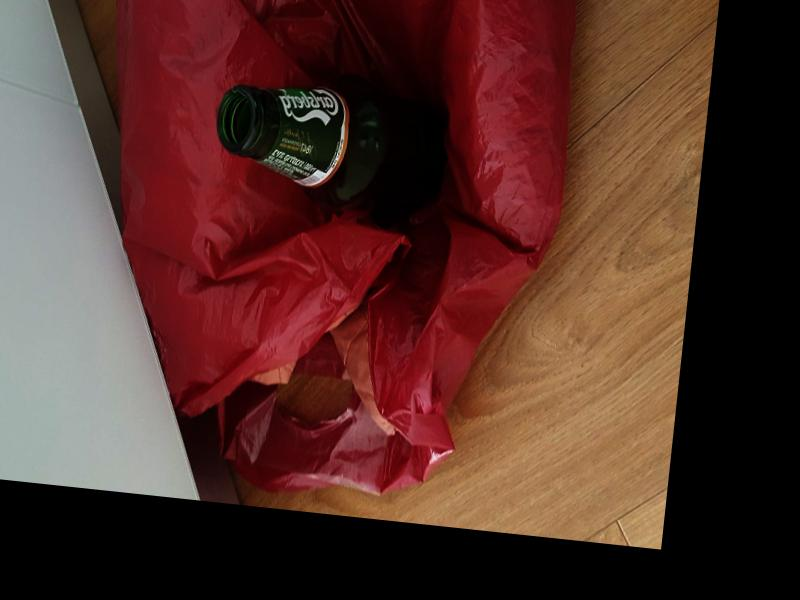Beer: (211, 63, 454, 221)
